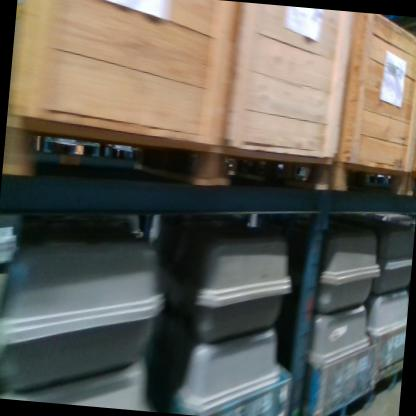pallet: (304, 382, 375, 416), (367, 356, 403, 405)
